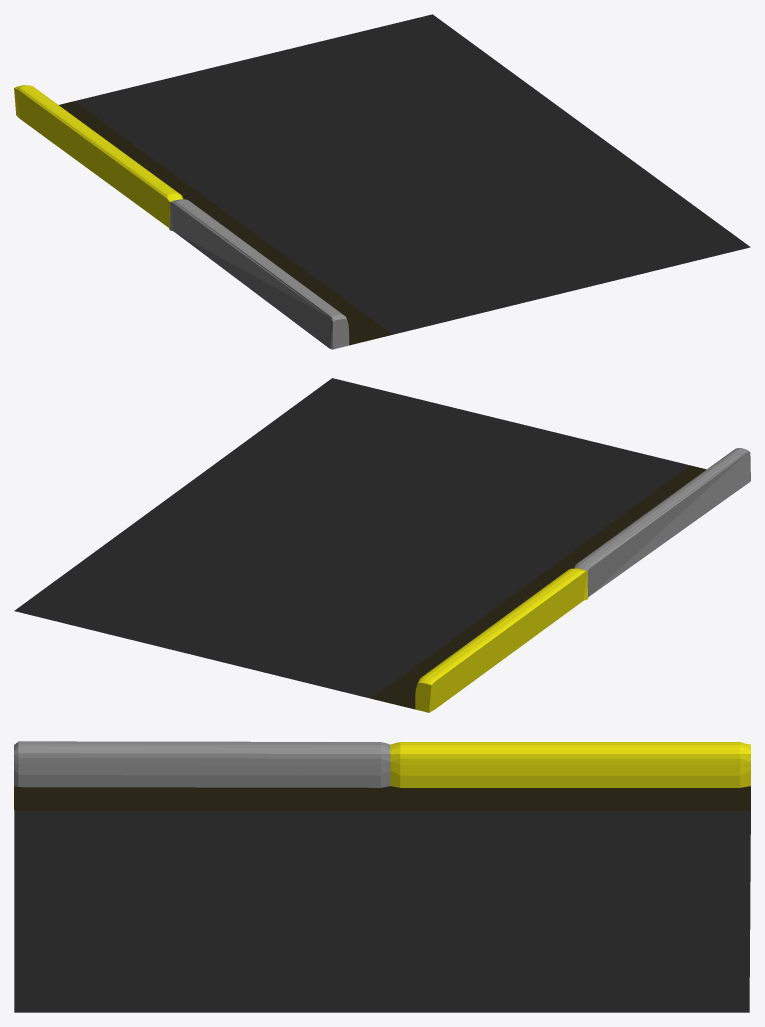
File: Black.Yellow.Curb.Extension.003.fbx
3 views of the same model, one above another, from view 1: azimuth 30°, elevation 25°; view 2: azimuth 150°, elevation 25°; view 3: azimuth 270°, elevation 25° (orthographic). The views are drawn at different scales.
Parts seen in each view (by area): view 1: Black.Yellow.Curb.Extension.003; view 2: Black.Yellow.Curb.Extension.003; view 3: Black.Yellow.Curb.Extension.003.
Boxes of the visible parts, left/top/right/bottom form: Black.Yellow.Curb.Extension.003: left=14, top=14, right=750, bottom=349; Black.Yellow.Curb.Extension.003: left=14, top=378, right=750, bottom=712; Black.Yellow.Curb.Extension.003: left=14, top=741, right=750, bottom=1012.
Size of the model in its own units: 297 by 226 by 16.32.
